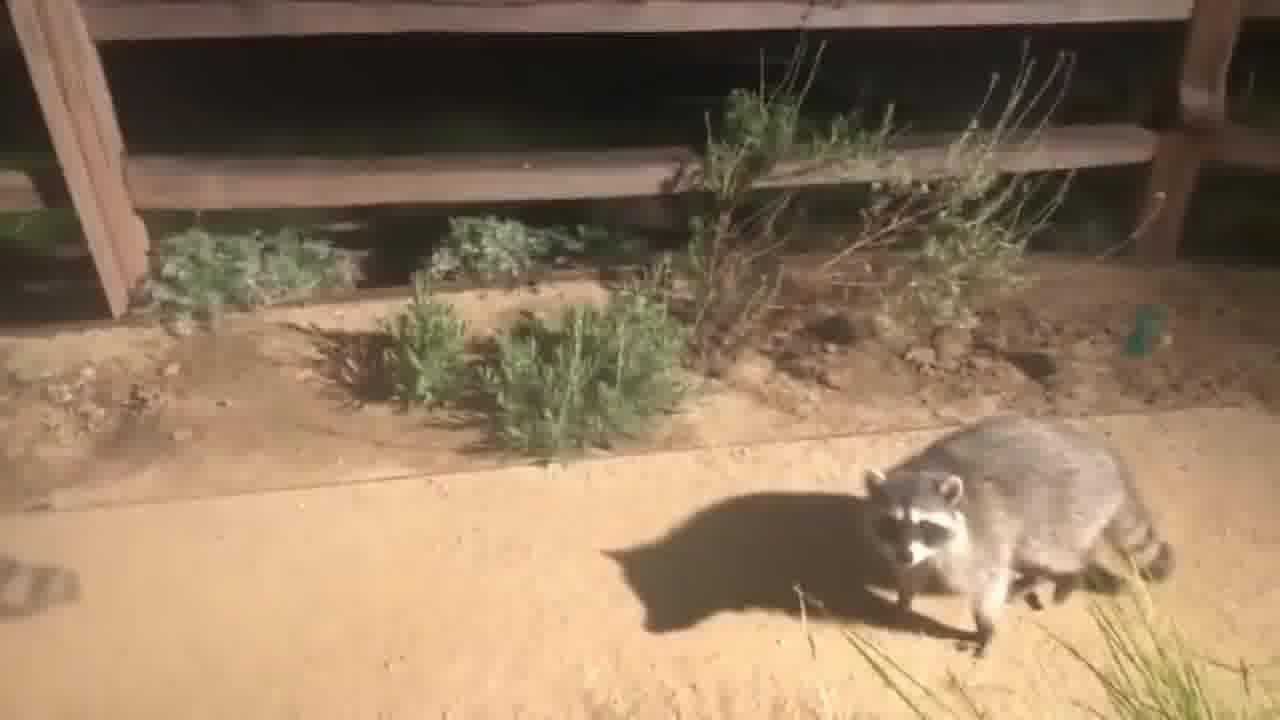raccoon: (848, 399, 1181, 668), (0, 540, 92, 629)
